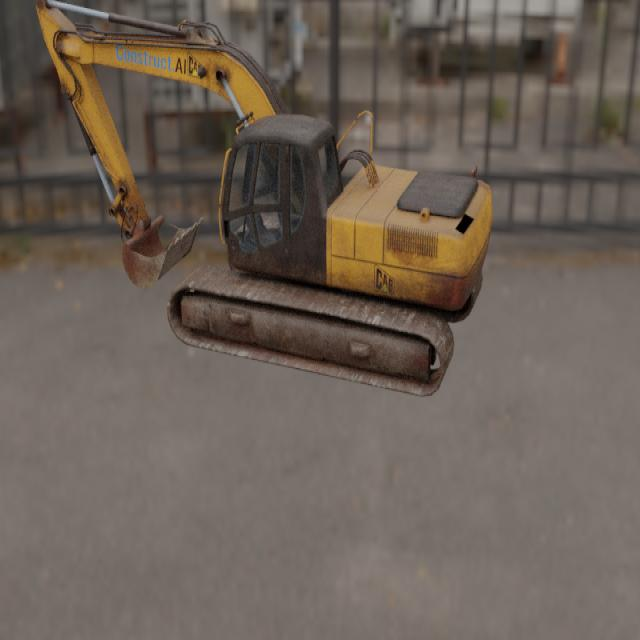excavator: (35, 0, 493, 399)
